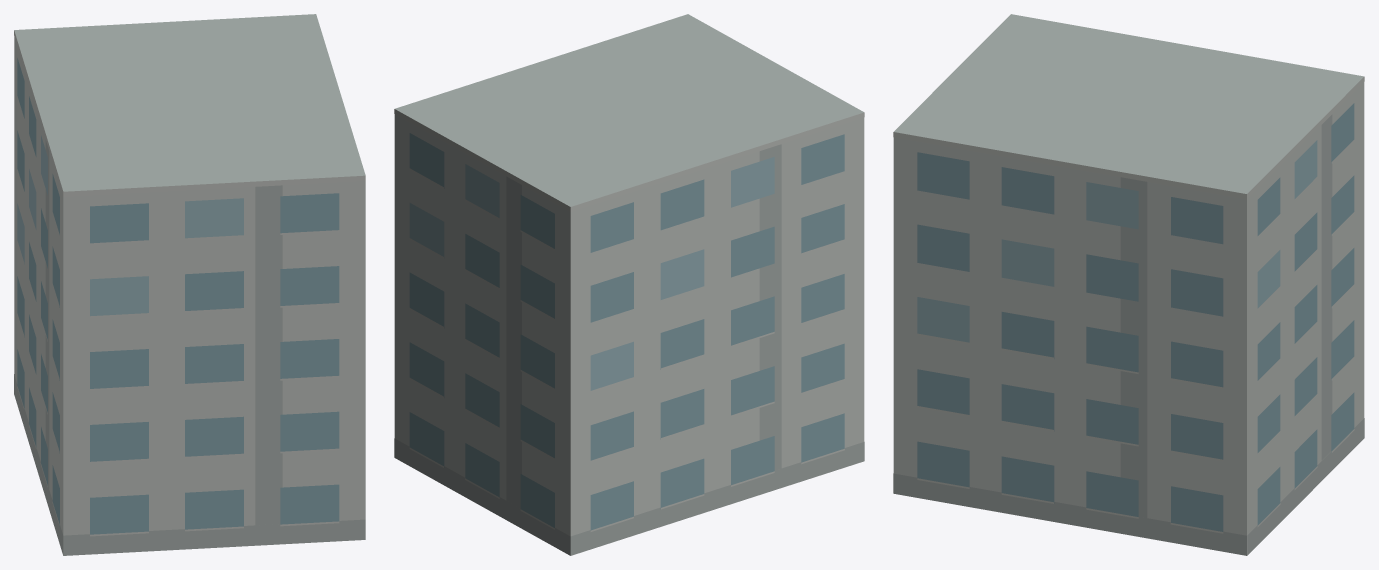
Rendered from survey-upis-32946141.glb.
The picture shows the model from 3 angles, left to right: view 1: azimuth 30°, elevation 25°; view 2: azimuth 150°, elevation 25°; view 3: azimuth 270°, elevation 25°; orthographic projection. The views are drawn at different scales.
Visible parts, largest first — view 1: survey-upis-32946141.tmp; view 2: survey-upis-32946141.tmp; view 3: survey-upis-32946141.tmp.
Part boxes in pixels (x1,y1,x2,y2): survey-upis-32946141.tmp: (14, 14, 365, 555); survey-upis-32946141.tmp: (394, 14, 864, 555); survey-upis-32946141.tmp: (893, 14, 1364, 555).
Size of the model in its own units: 17.85 by 16.7 by 19.72.
